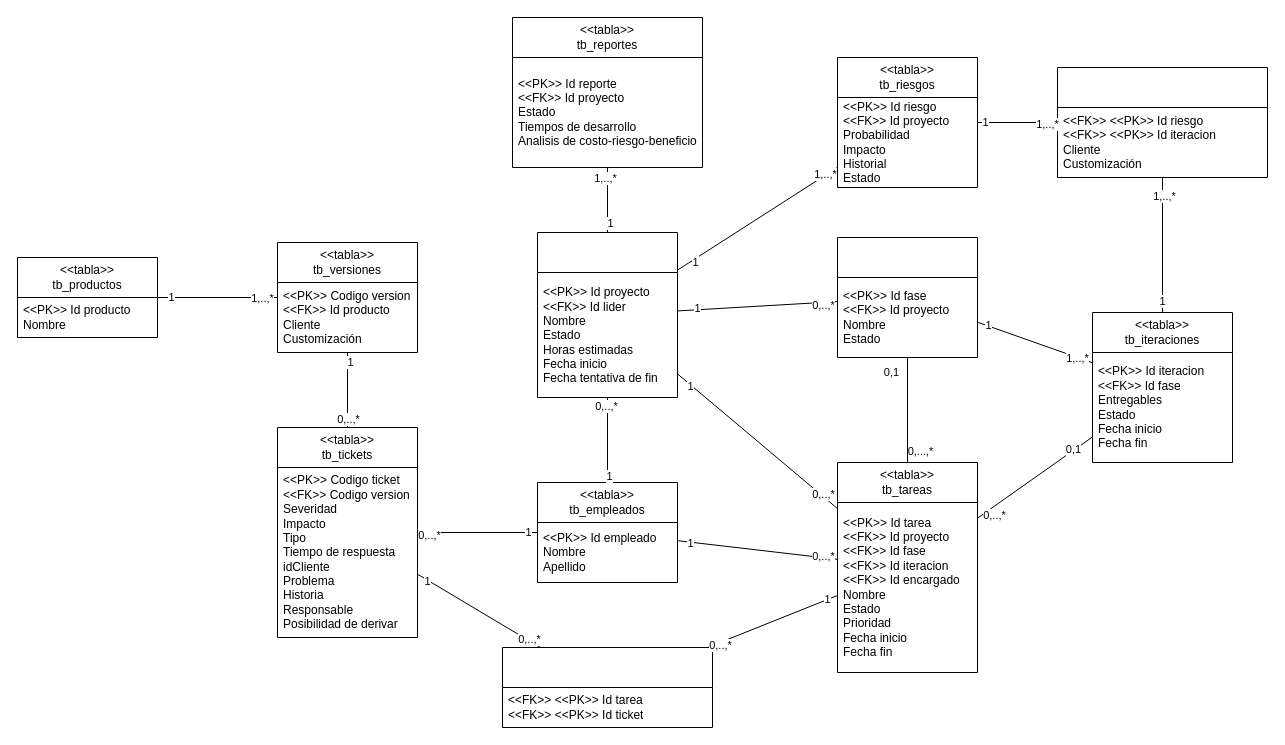
Image size: 1285x745. Some labels were removed from this diagram. The shapes that lost their labels are listed below. From the top down, each one's box as (x1, y1, x2, y2) in pixels, then its label:
(1056, 66, 1268, 178): <<tabla>> tb_riesgos_por_iteracion
(536, 232, 678, 398): <<tabla>> tb_proyectos
(836, 236, 978, 358): <<tabla>> tb_fases
(502, 646, 712, 728): <<tabla>> tb_tareas_por_ticket
